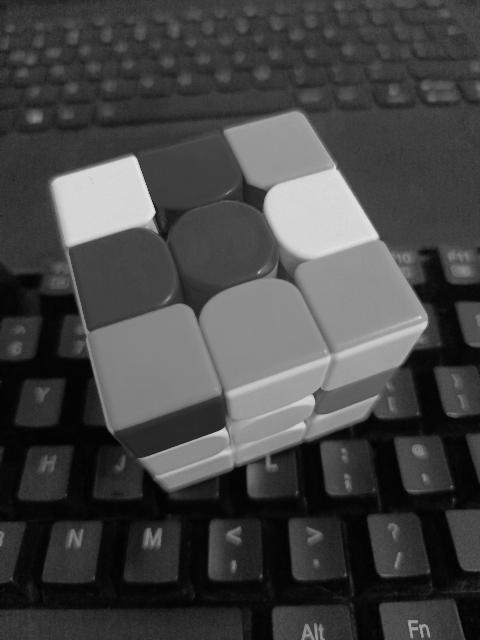rubik: (49, 108, 430, 492)
